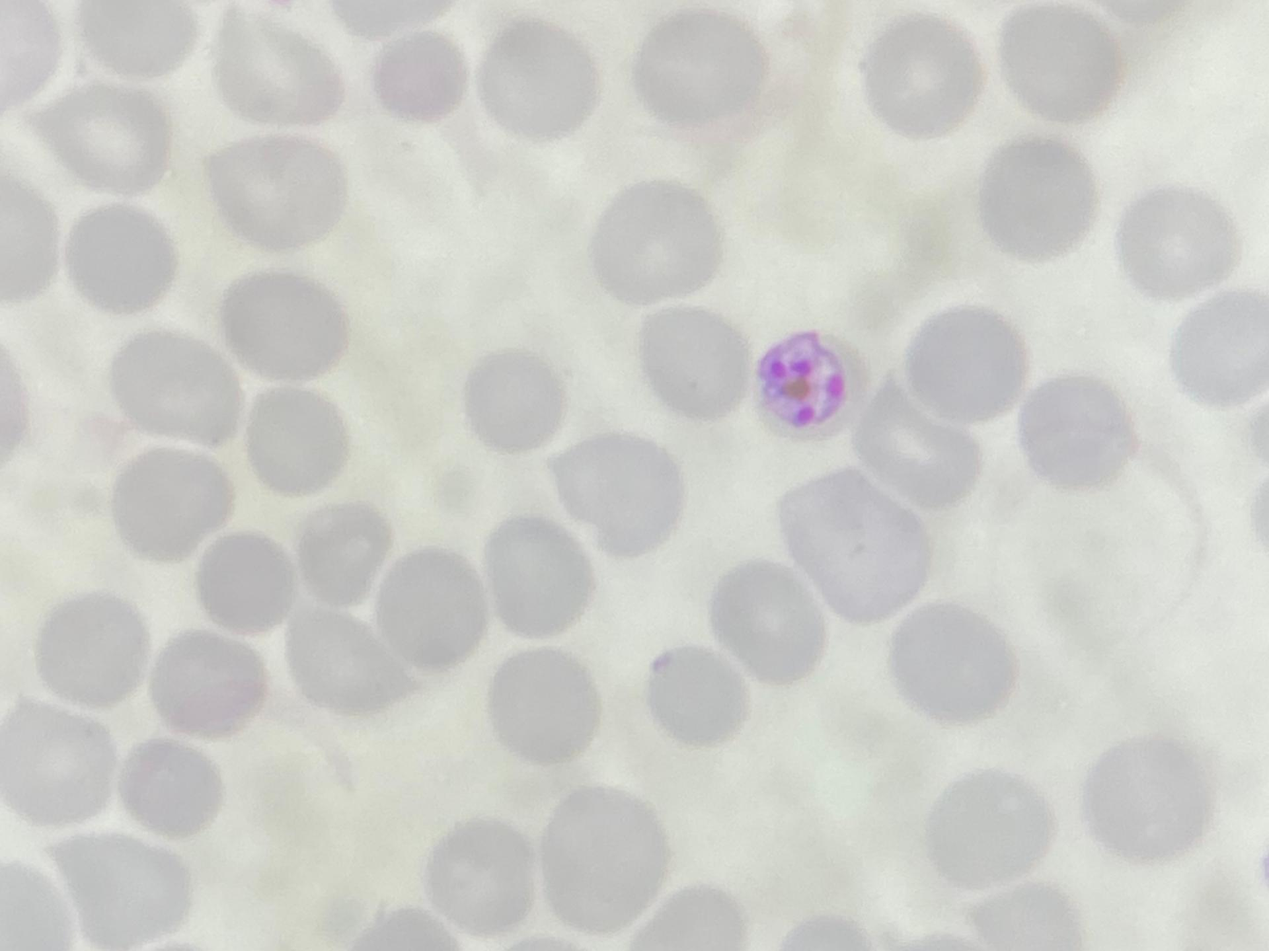Infected: (755, 324, 869, 439)
Uninfected: (778, 468, 934, 624), (540, 782, 671, 939), (1084, 734, 1214, 869), (45, 838, 198, 951), (998, 0, 1127, 132), (207, 131, 343, 251), (558, 432, 687, 558), (634, 10, 771, 128), (109, 327, 240, 450), (593, 179, 724, 301), (859, 387, 985, 513), (216, 9, 347, 130), (983, 133, 1102, 266), (711, 557, 828, 689), (891, 602, 1014, 727), (1115, 184, 1243, 303), (218, 273, 352, 386), (481, 19, 602, 144), (907, 303, 1030, 423), (284, 607, 418, 717), (377, 541, 488, 672), (930, 770, 1051, 890), (36, 86, 170, 192), (33, 593, 153, 711), (869, 15, 979, 143), (1021, 370, 1136, 492), (487, 645, 602, 766), (111, 455, 236, 566), (0, 704, 113, 824), (1168, 280, 1269, 410), (425, 817, 535, 932), (236, 385, 352, 493), (641, 309, 749, 422), (487, 516, 589, 635), (66, 209, 179, 316), (466, 346, 568, 455), (193, 532, 298, 637), (121, 737, 228, 840), (648, 646, 749, 754), (74, 0, 199, 83), (294, 501, 387, 604), (378, 27, 469, 119)
